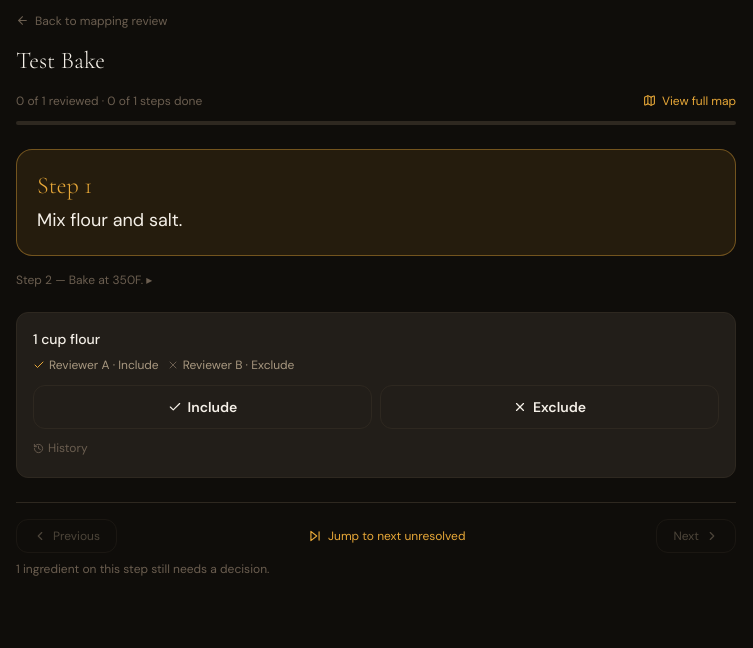
Scenario: MappingReviewRecipePage — non-happy-path states › shows candidate decision history newest-first, not the persisted oldest-first order
Expected: the text "1 cup flour" is shown, [33,329,100,349]
Step 1. Click the button "History" → (60,448), box [33,440,88,456]
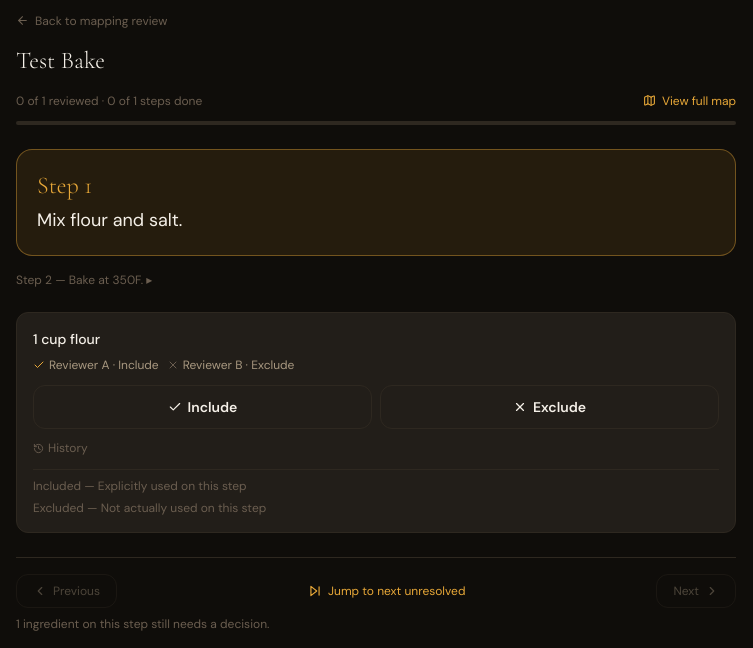
Now the text "Included — Explicitly used on this step" is shown, box [33,478,247,494]
Now the text "Excluded — Not actually used on this step" is shown, box [33,500,266,516]
